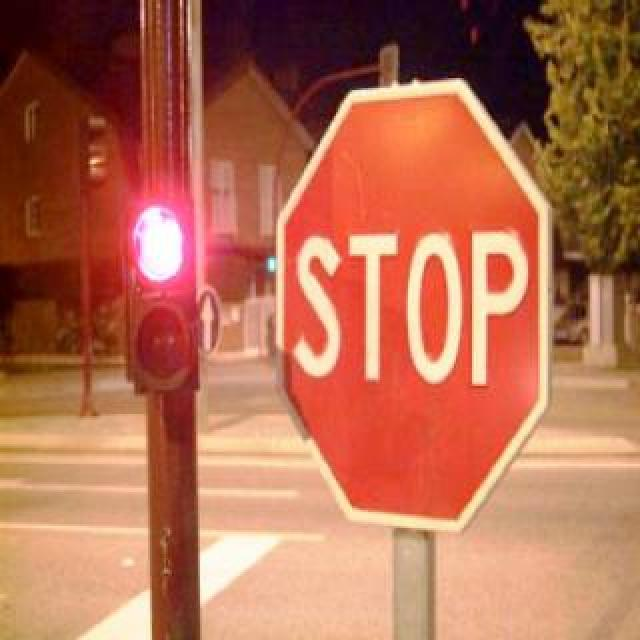stop: (276, 80, 552, 528)
